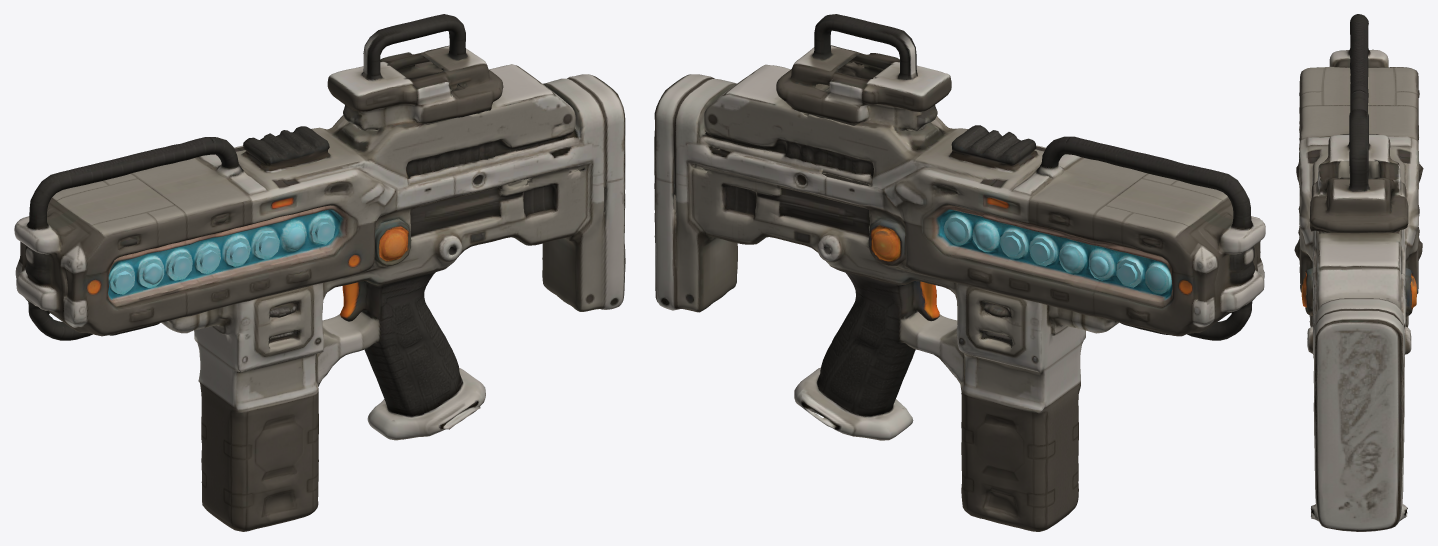
File: ppb-X.glb
3 views of the same model, side by side, from view 1: azimuth 30°, elevation 25°; view 2: azimuth 150°, elevation 25°; view 3: azimuth 270°, elevation 25° (orthographic).
Parts seen in each view (by area): view 1: tripo_node_449baa10; view 2: tripo_node_449baa10; view 3: tripo_node_449baa10.
Boxes of the visible parts, box(x1,y1,x2,y2) form: tripo_node_449baa10: box(14, 14, 625, 531); tripo_node_449baa10: box(654, 14, 1265, 531); tripo_node_449baa10: box(1294, 14, 1423, 531).
Bounding box in the file's own units: 99.4 × 74.07 × 19.31.
Materials: 1 (1 with a texture image).
